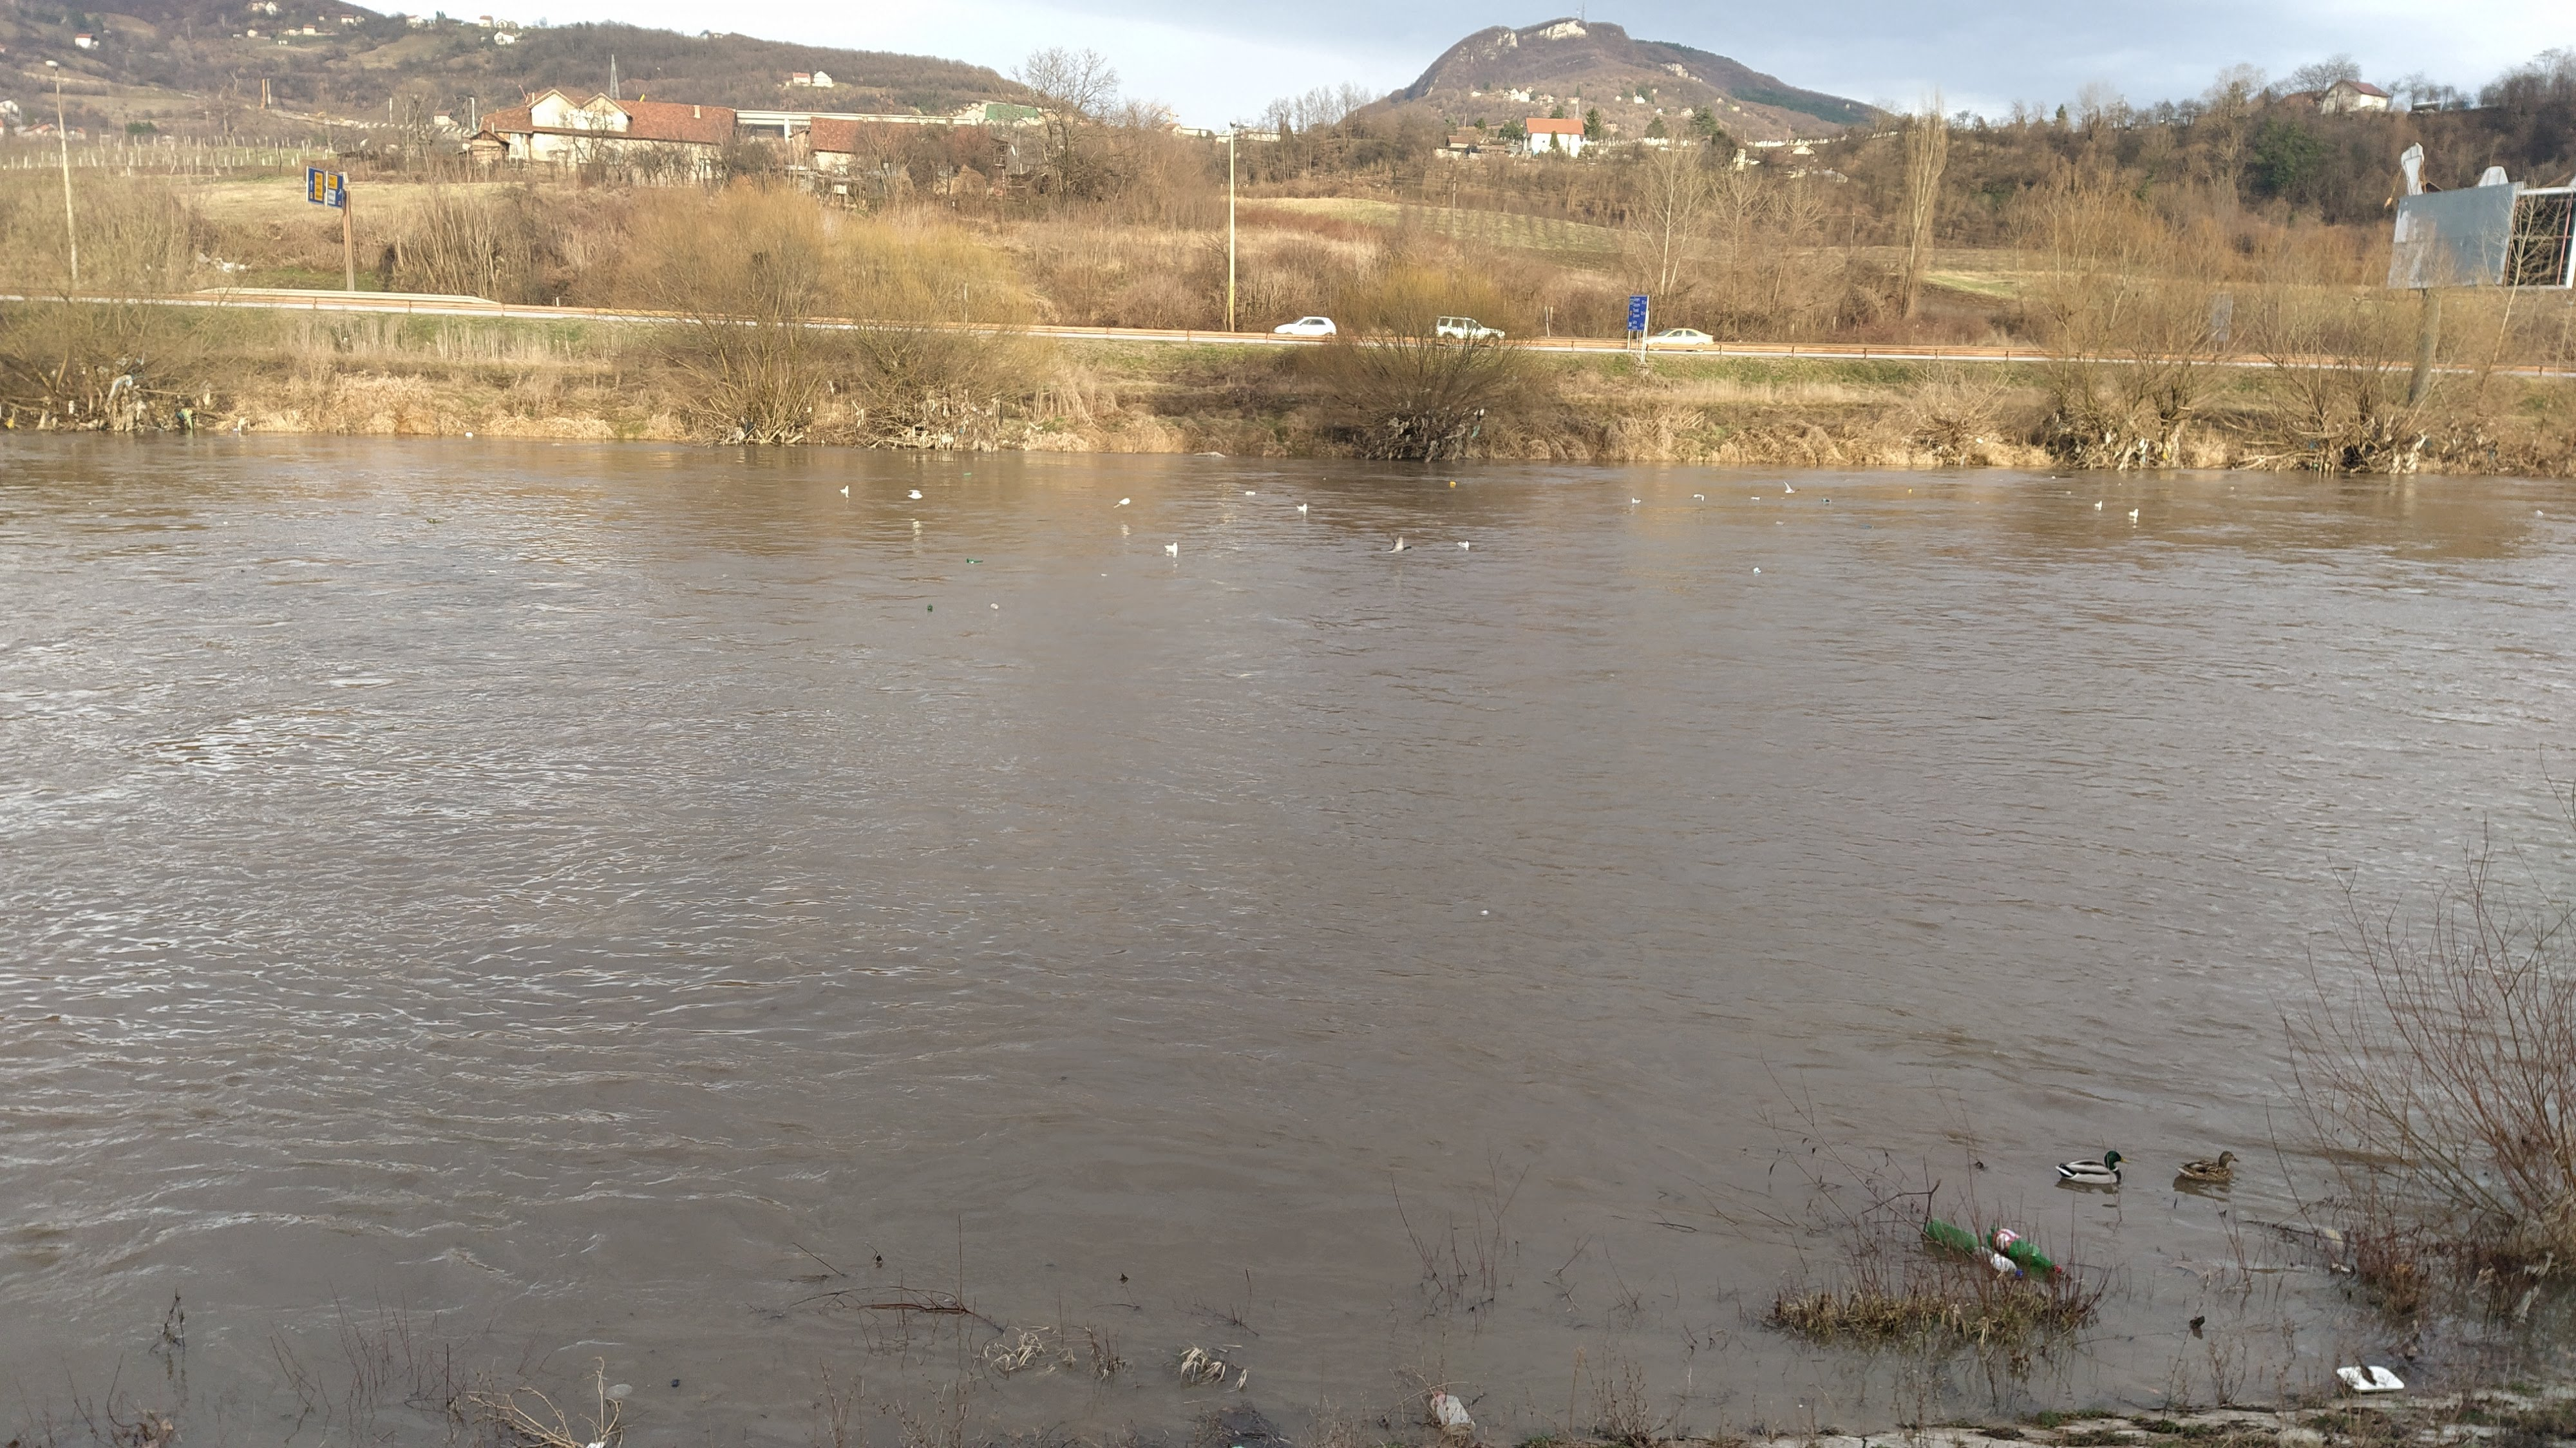Plastic Bottle: (1987, 1225, 2061, 1273), (1430, 1390, 1476, 1434), (1927, 1218, 1978, 1250), (1973, 1246, 2022, 1275), (966, 558, 985, 563), (426, 519, 439, 524), (1863, 524, 1874, 529), (991, 604, 1000, 609), (927, 604, 932, 611), (1246, 490, 1254, 494), (1821, 499, 1829, 503), (964, 473, 971, 476)
